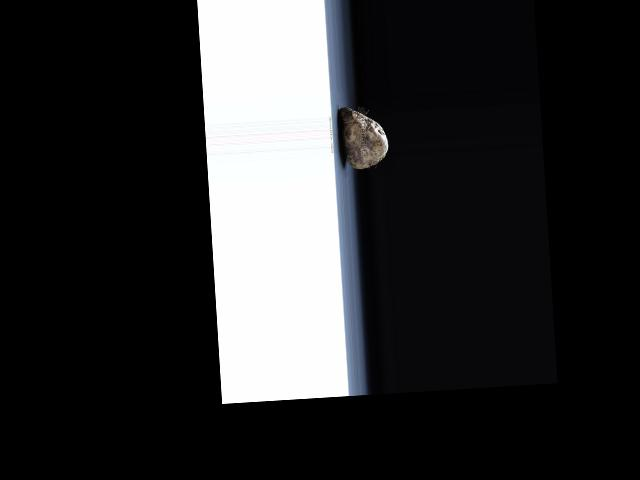beet: (338, 106, 388, 171)
